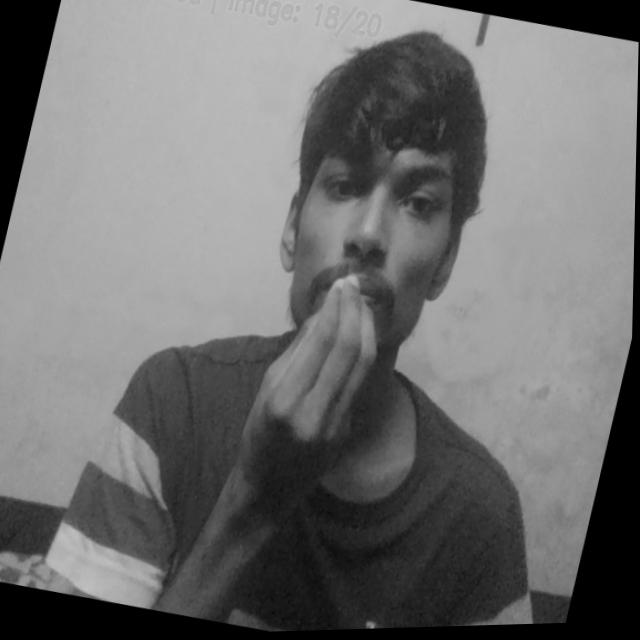Food: (233, 258, 402, 514)
